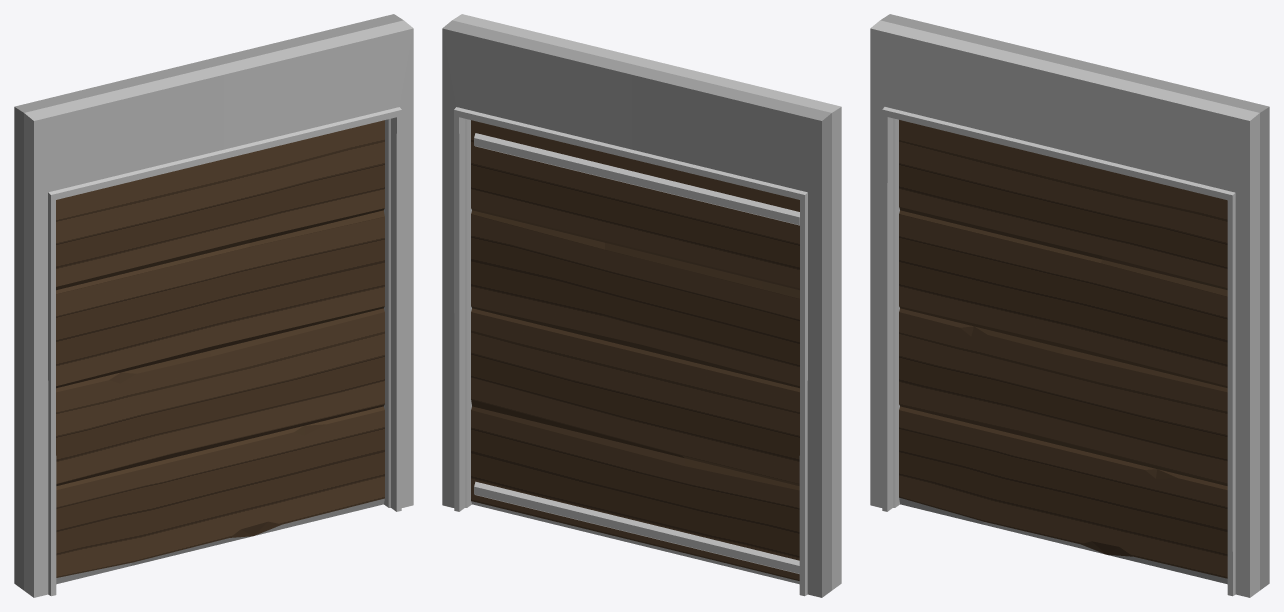
File: SM_Bld_Wall_Door_Garage_02.fbx
The picture shows the model from 3 angles, left to right: view 1: azimuth 30°, elevation 25°; view 2: azimuth 150°, elevation 25°; view 3: azimuth 330°, elevation 25°; orthographic projection.
Visible parts, largest first — view 1: SM_Bld_Wall_Door_Garage_02_Door, SM_Bld_Wall_Door_Garage_02; view 2: SM_Bld_Wall_Door_Garage_02_Door, SM_Bld_Wall_Door_Garage_02; view 3: SM_Bld_Wall_Door_Garage_02_Door, SM_Bld_Wall_Door_Garage_02.
Boxes of the visible parts, x1=… form: SM_Bld_Wall_Door_Garage_02_Door: x1=56, y1=120, x2=384, y2=584; SM_Bld_Wall_Door_Garage_02: x1=14, y1=14, x2=413, y2=597; SM_Bld_Wall_Door_Garage_02_Door: x1=471, y1=120, x2=799, y2=584; SM_Bld_Wall_Door_Garage_02: x1=442, y1=14, x2=841, y2=597; SM_Bld_Wall_Door_Garage_02_Door: x1=899, y1=120, x2=1227, y2=584; SM_Bld_Wall_Door_Garage_02: x1=870, y1=14, x2=1269, y2=597.
Size of the model in its own units: 250 by 301 by 28.8.
